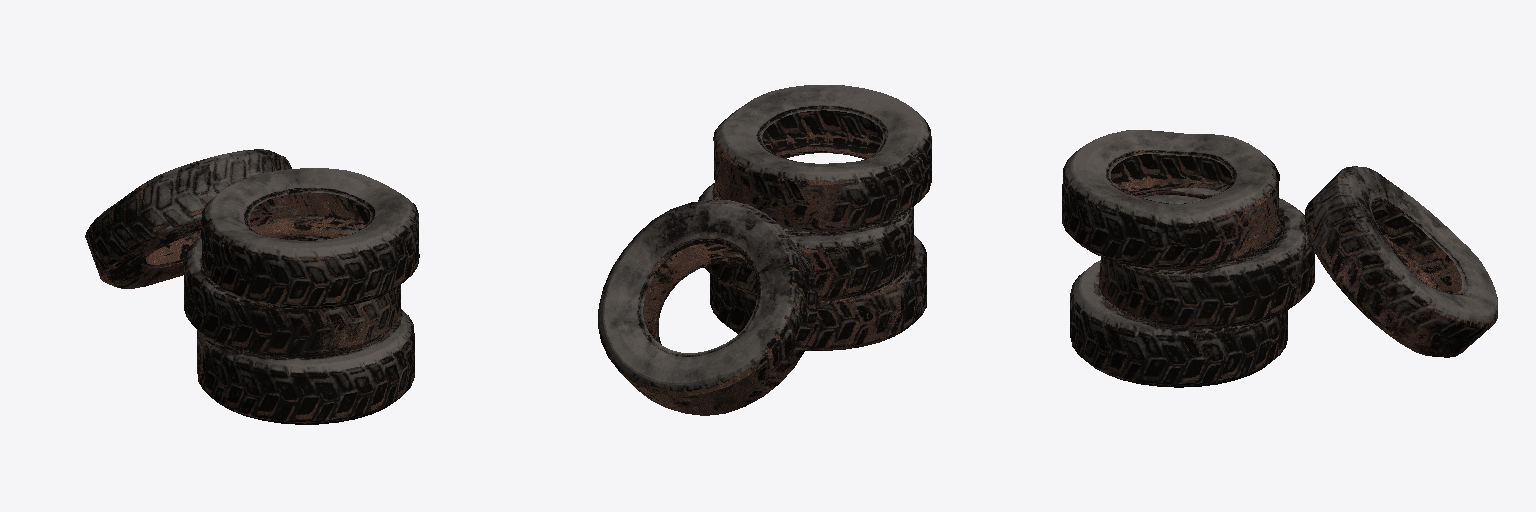
3 views of the same model, side by side, from view 1: azimuth 30°, elevation 25°; view 2: azimuth 150°, elevation 25°; view 3: azimuth 270°, elevation 25° (orthographic).
Parts seen in each view (by area): view 1: Cylinder_meshId0_name; view 2: Cylinder_meshId0_name; view 3: Cylinder_meshId0_name.
Part boxes in pixels (x1,y1,x2,y2): Cylinder_meshId0_name: (85,149,419,424); Cylinder_meshId0_name: (598,85,931,415); Cylinder_meshId0_name: (1062,130,1497,387).
Size of the model in its own units: 1.12 by 1.02 by 2.24.
Materials: 1 (1 with a texture image).